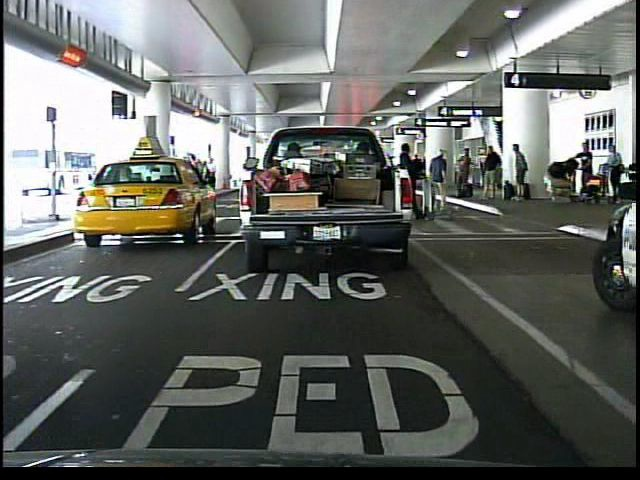person: (390, 138, 432, 222), (425, 146, 451, 216), (600, 142, 626, 209), (574, 141, 600, 201)
